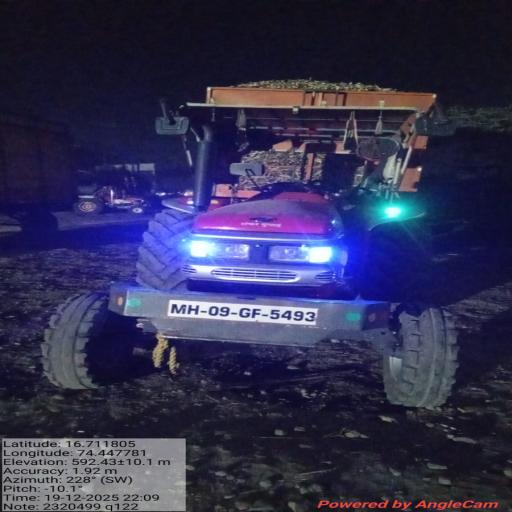number_plate: (165, 295, 333, 335)
